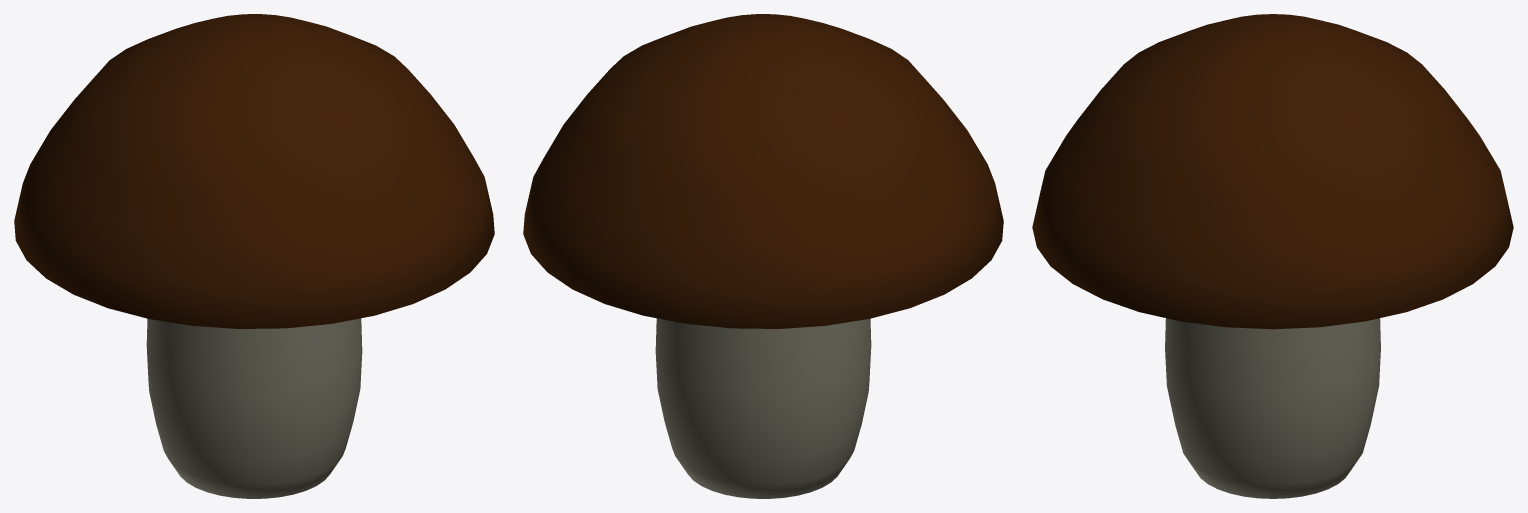
File: mush_food.fbx
3 views of the same model, side by side, from view 1: azimuth 30°, elevation 25°; view 2: azimuth 150°, elevation 25°; view 3: azimuth 270°, elevation 25° (orthographic).
Visible parts, largest first — view 1: Sphere; view 2: Sphere; view 3: Sphere.
Boxes of the visible parts, x1,y1,x2,y2 form: Sphere: (14, 14, 494, 498); Sphere: (523, 14, 1003, 498); Sphere: (1032, 14, 1513, 498).
Bounding box in the file's own units: 456 × 469 × 456.
